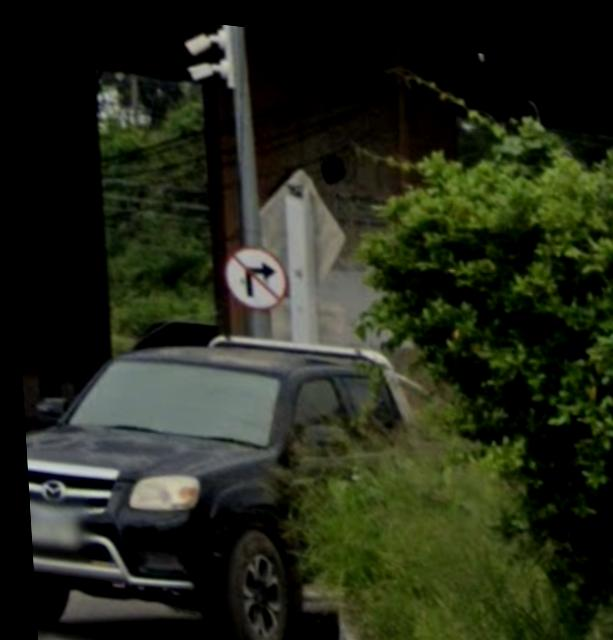not_turn_right: (218, 236, 288, 307)
